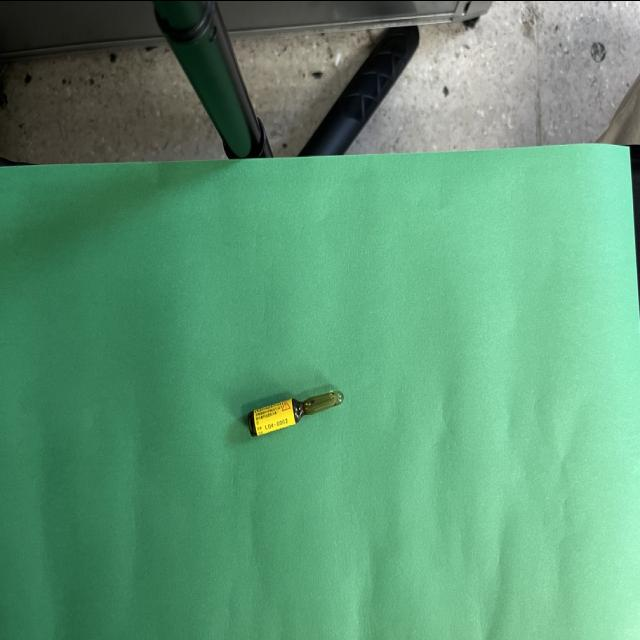Ampoules: (248, 389, 344, 436)
